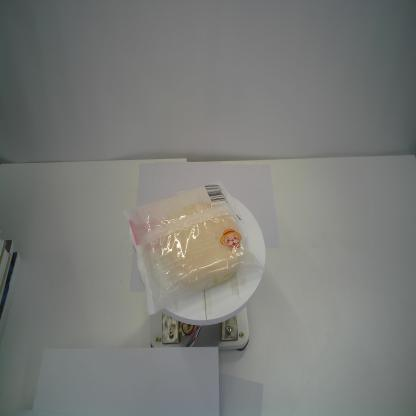Dessert: (120, 176, 267, 317)
